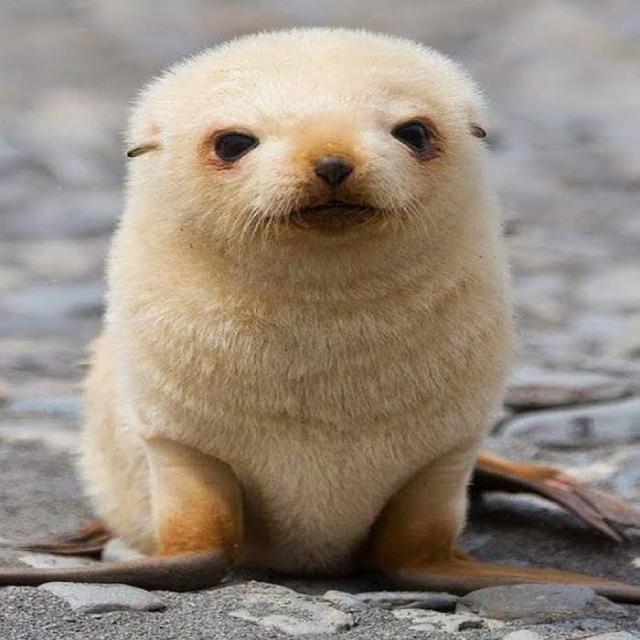WaterDog: (77, 24, 512, 578)
